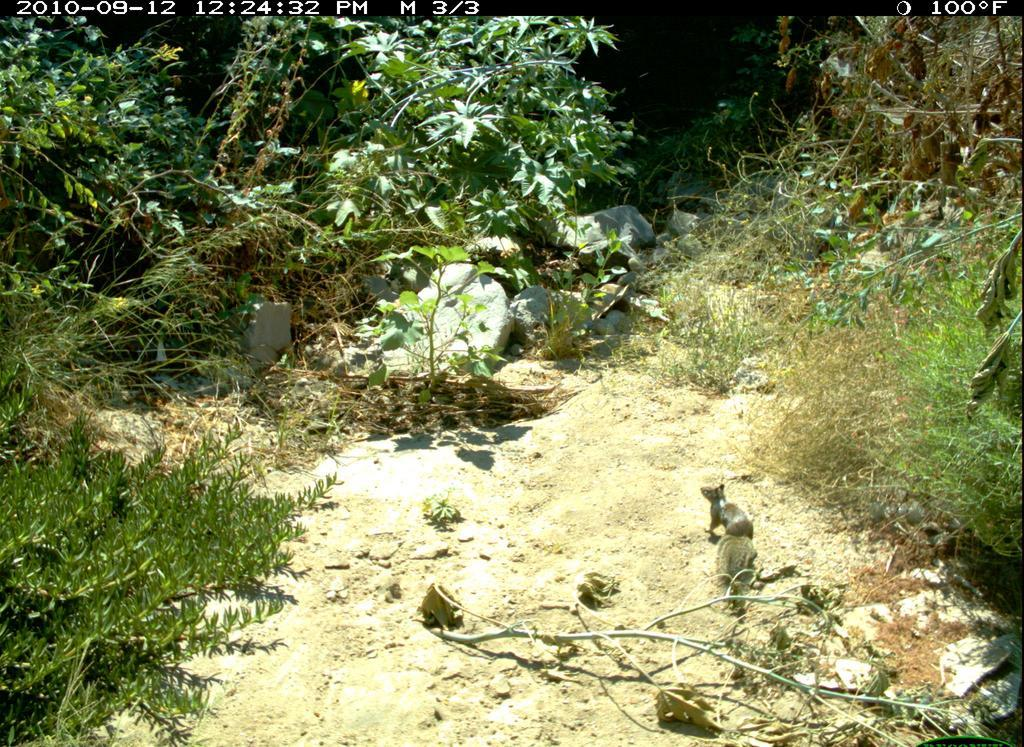squirrel: (683, 470, 774, 614)
